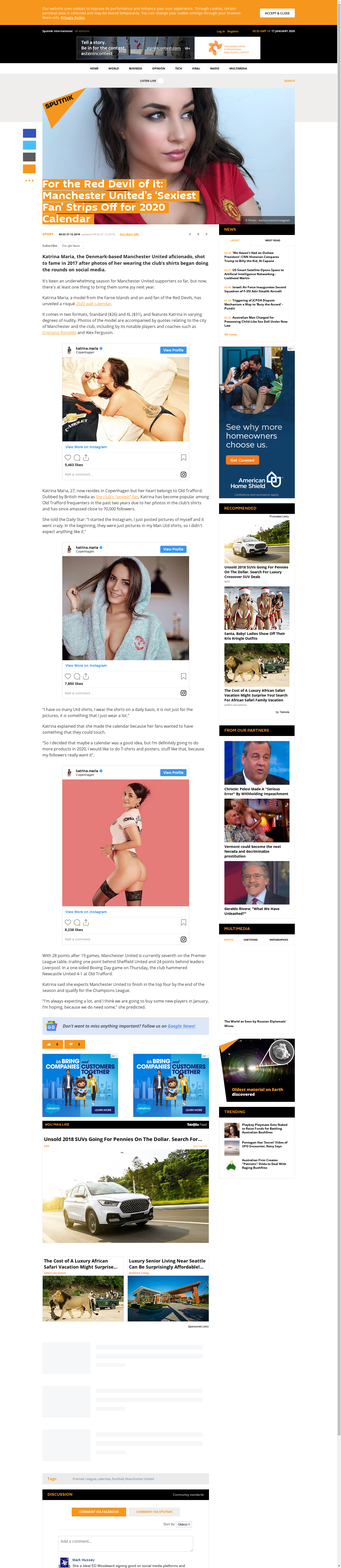fake_button: (158, 765, 190, 780), (157, 345, 188, 356), (158, 545, 187, 555), (181, 1105, 207, 1116), (88, 1105, 116, 1115)
